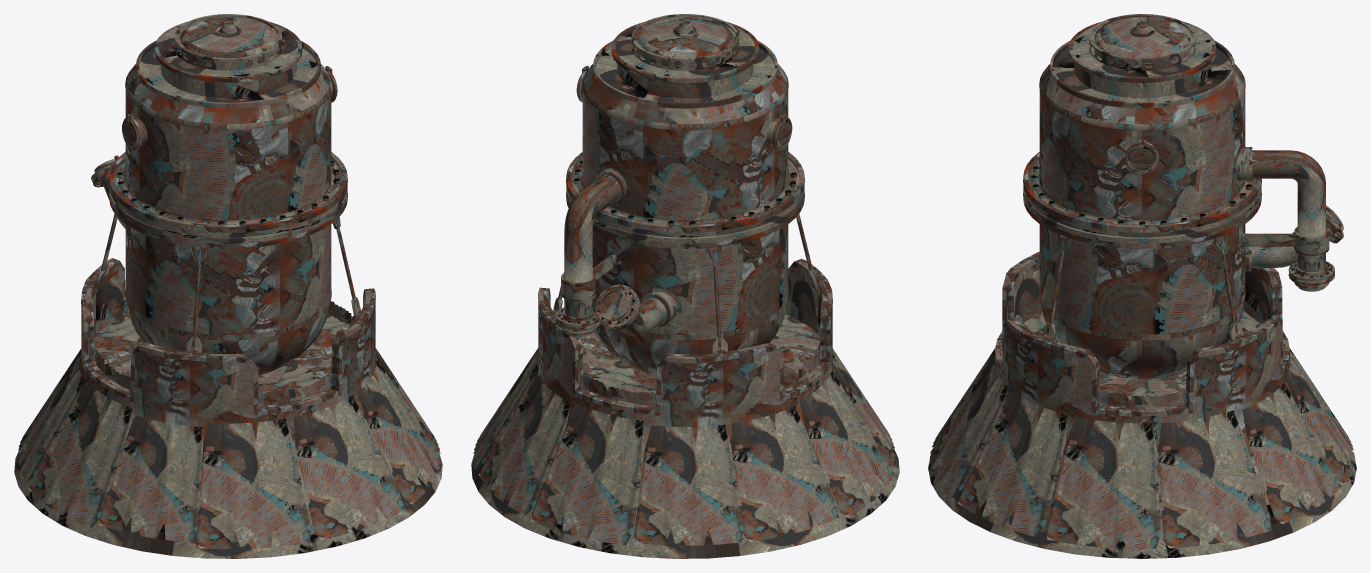
Rendered from refinery.gltf.
3 views of the same model, side by side, from view 1: azimuth 30°, elevation 25°; view 2: azimuth 150°, elevation 25°; view 3: azimuth 270°, elevation 25° (orthographic).
Parts seen in each view (by area): view 1: Collection.smd; view 2: Collection.smd; view 3: Collection.smd.
Boxes of the visible parts, left/top/right/bottom form: Collection.smd: left=14, top=14, right=442, bottom=558; Collection.smd: left=471, top=14, right=899, bottom=558; Collection.smd: left=928, top=14, right=1356, bottom=558.
Bounding box in the file's own units: 2.11 × 2.42 × 2.11.
1 material, 1 textured.
